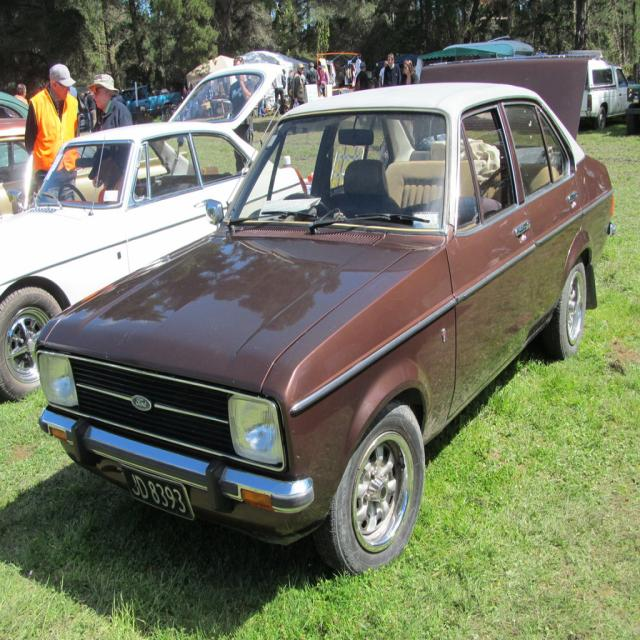car: (34, 82, 617, 573)
